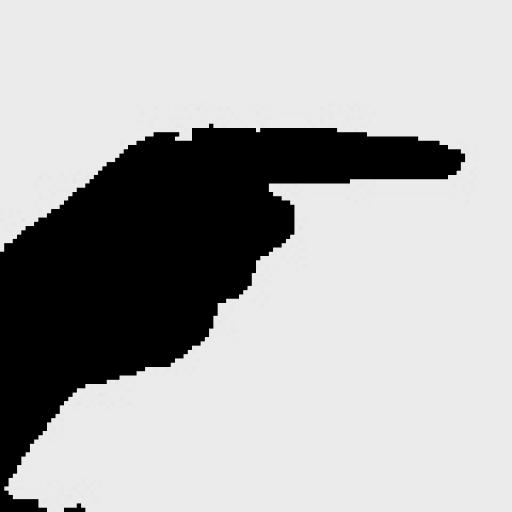index_right: (0, 122, 465, 329)
